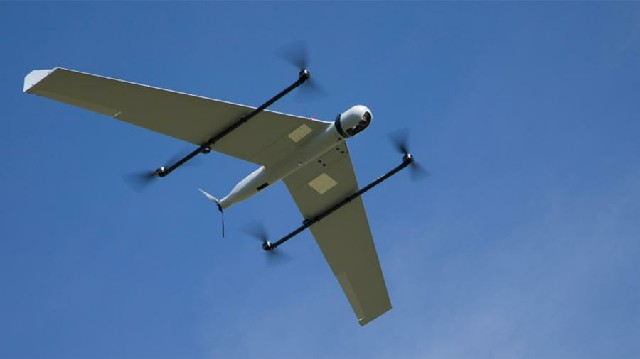maybay_khongnguoilai: (25, 60, 399, 332)
